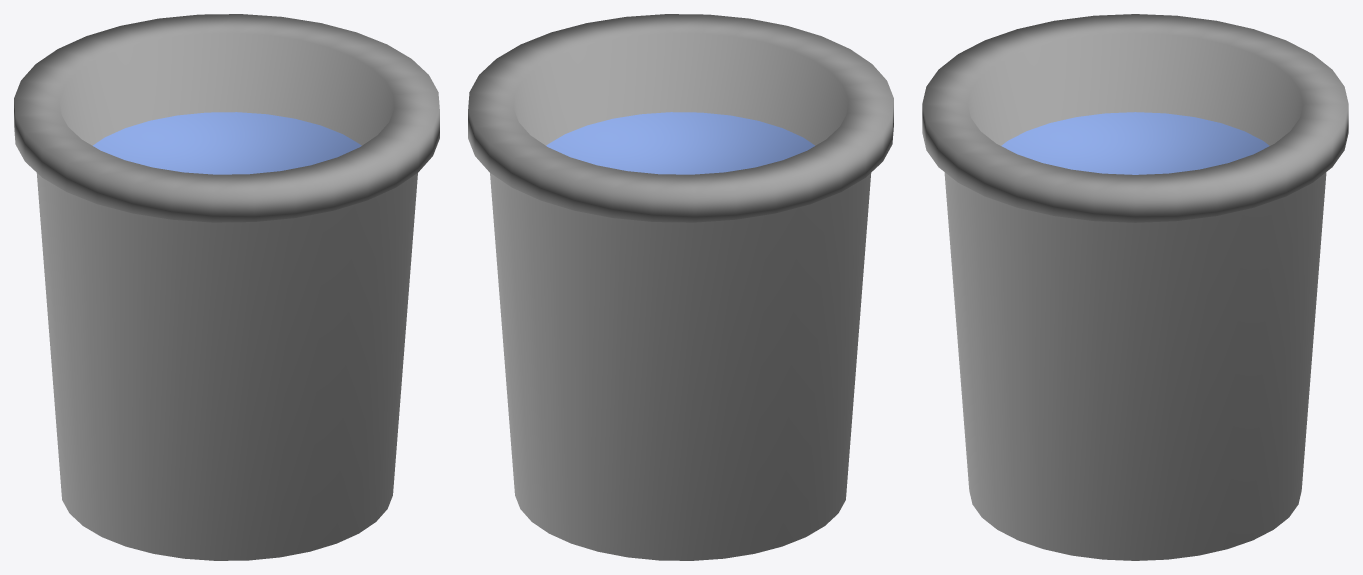
Rendered from bucket.fbx.
3 renders of one model, left to right at view 1: azimuth 30°, elevation 25°; view 2: azimuth 150°, elevation 25°; view 3: azimuth 270°, elevation 25°, orthographic.
Visible parts, largest first — view 1: Bucket; view 2: Bucket; view 3: Bucket.
Part boxes in pixels (bbox=[...]): Bucket: bbox=[14, 14, 439, 560]; Bucket: bbox=[468, 14, 893, 560]; Bucket: bbox=[922, 14, 1348, 560].
Bounding box in the file's own units: 1.04 × 1.04 × 1.04.
